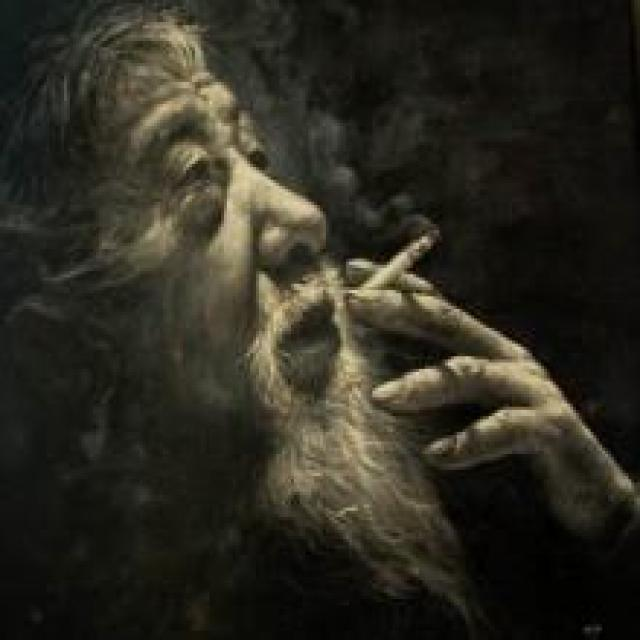cigarette: (340, 218, 442, 331)
